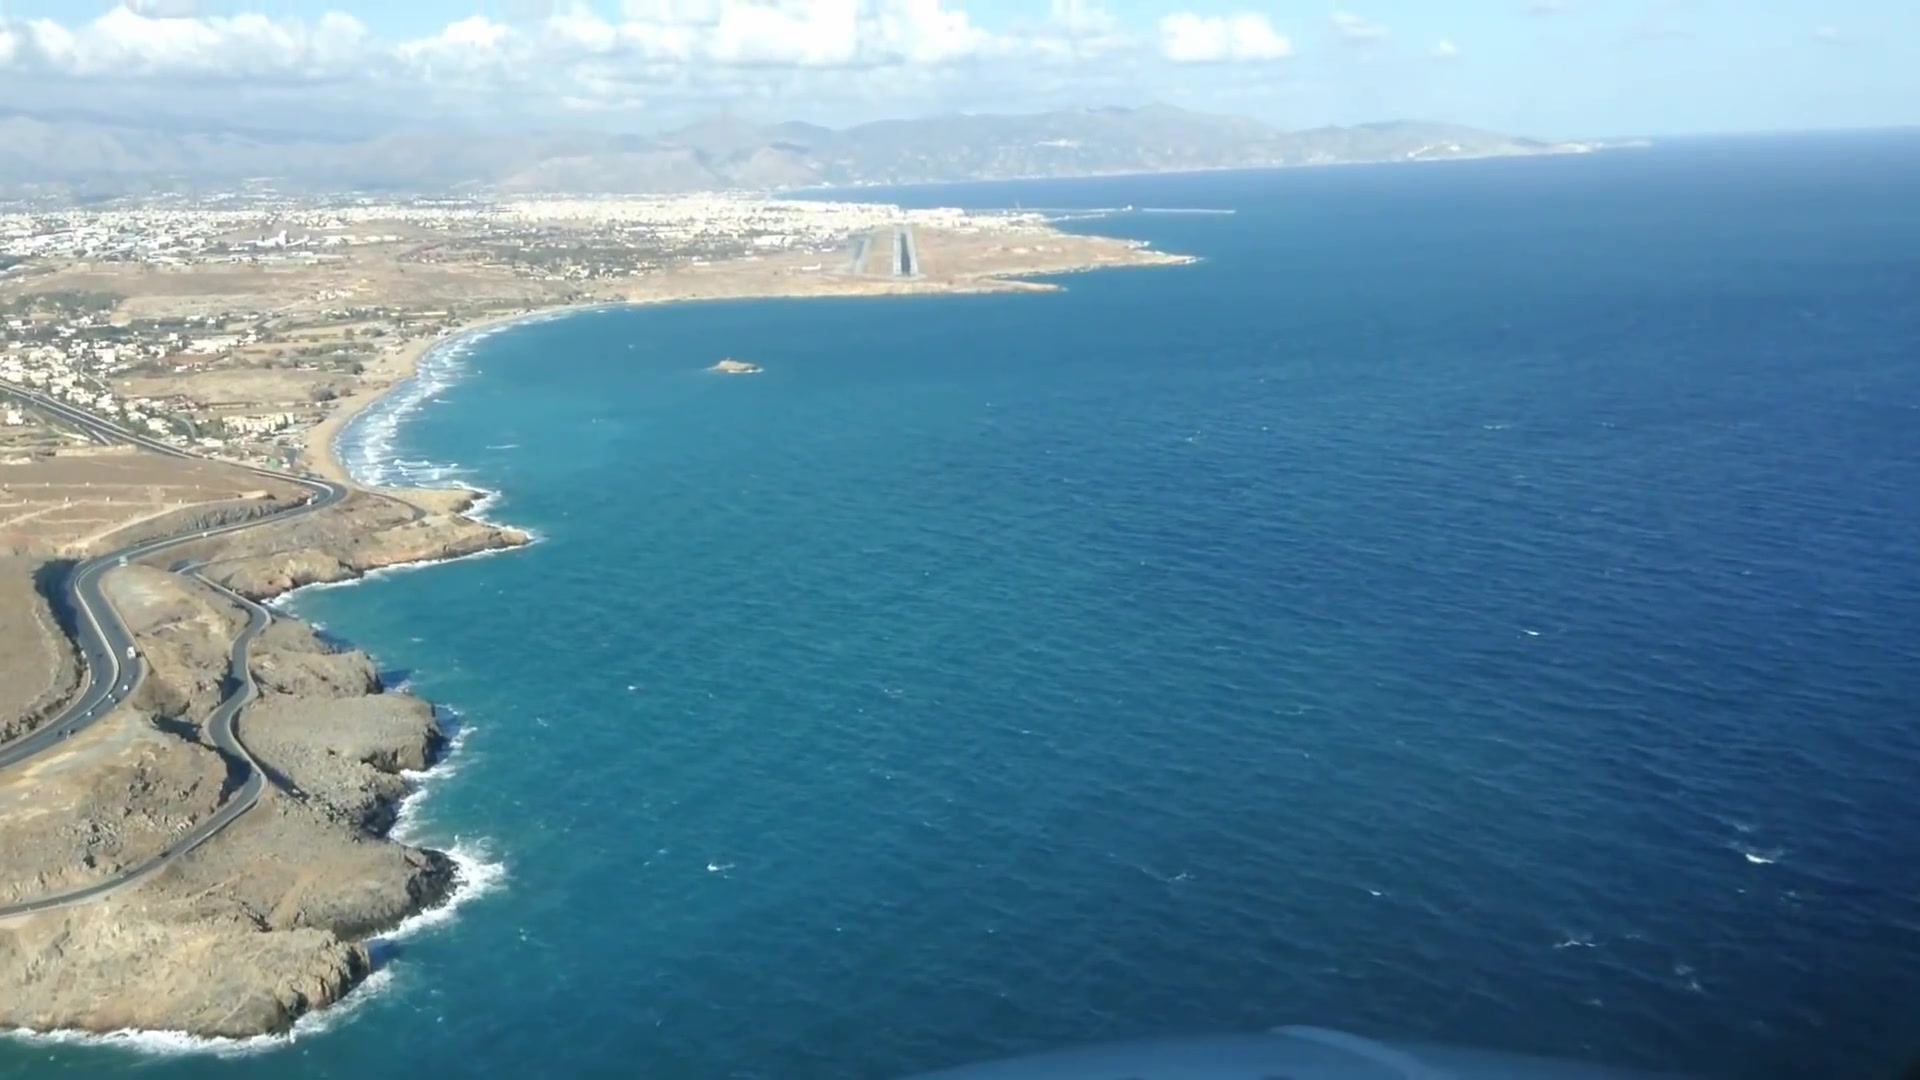runway: (891, 227, 919, 278)
